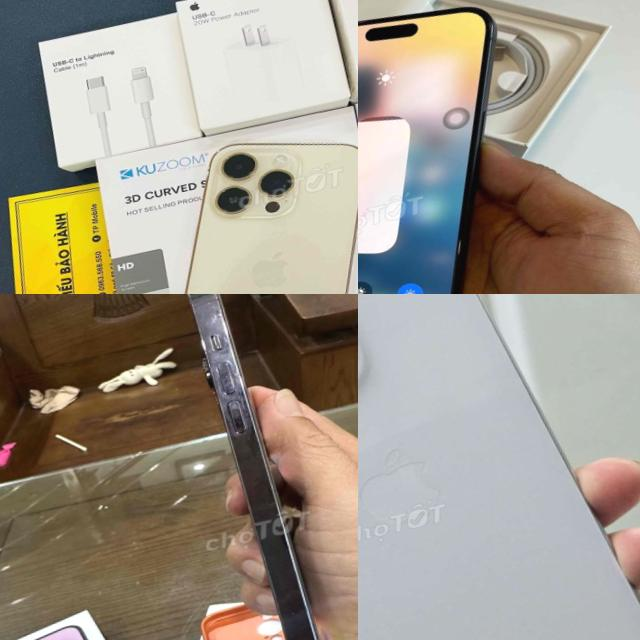scratch: (208, 334, 258, 437), (200, 294, 246, 333), (283, 603, 307, 624)
